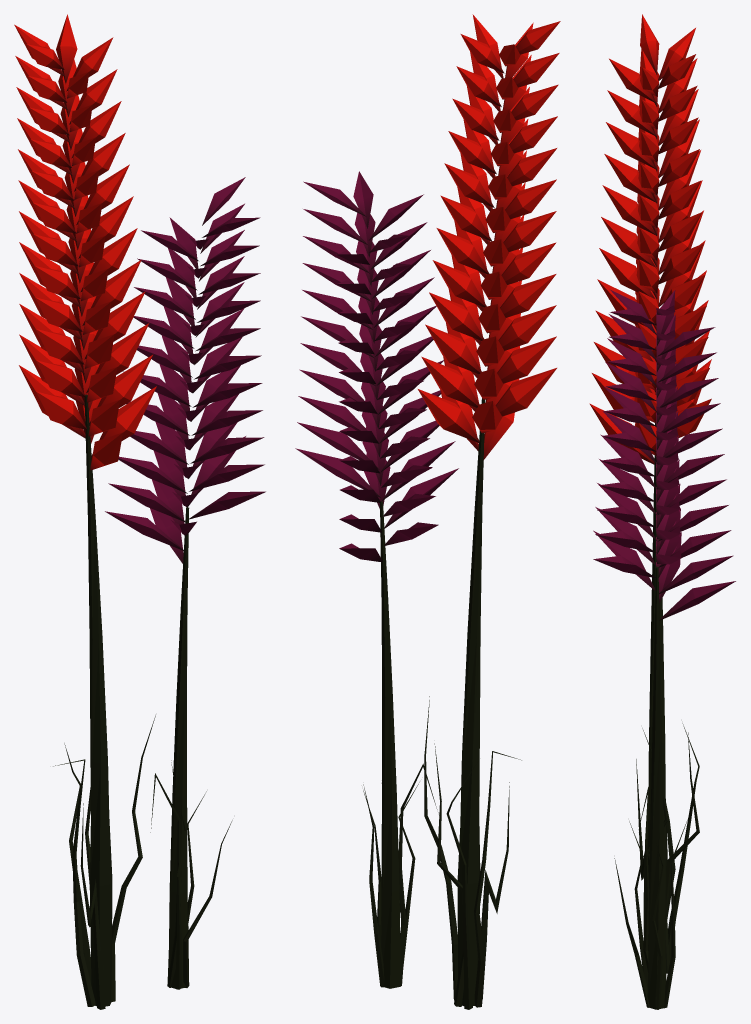
The model's file is Plant-M-3.fbx.
3 renders of one model, left to right at view 1: azimuth 30°, elevation 25°; view 2: azimuth 150°, elevation 25°; view 3: azimuth 270°, elevation 25°, orthographic. The views are drawn at different scales.
Visible parts, largest first — view 1: OUT-Plant; view 2: OUT-Plant; view 3: OUT-Plant.
Boxes of the visible parts, x1,y1,x2,y2 form: OUT-Plant: (14, 14, 265, 1009); OUT-Plant: (295, 14, 560, 1009); OUT-Plant: (589, 14, 735, 1009).
Bounding box in the file's own units: 0.2526 × 0.9845 × 0.1431.
